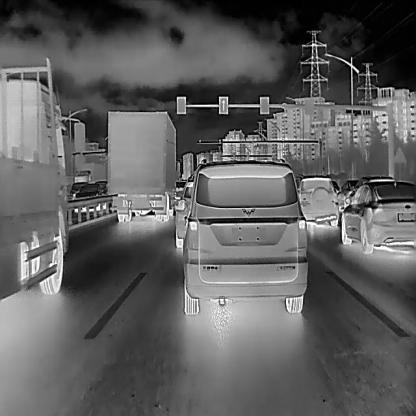car: (0, 65, 84, 305), (181, 158, 307, 314), (106, 108, 177, 222), (340, 177, 415, 255), (295, 175, 339, 226), (173, 178, 199, 249), (73, 160, 104, 187), (338, 178, 359, 207), (73, 181, 103, 201)
